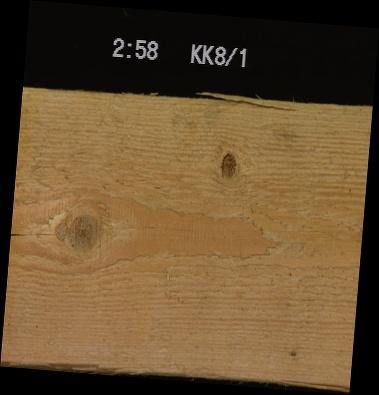dry_knot: (219, 152, 236, 179)
sound_knot: (66, 212, 98, 251)
split: (10, 230, 58, 239)
